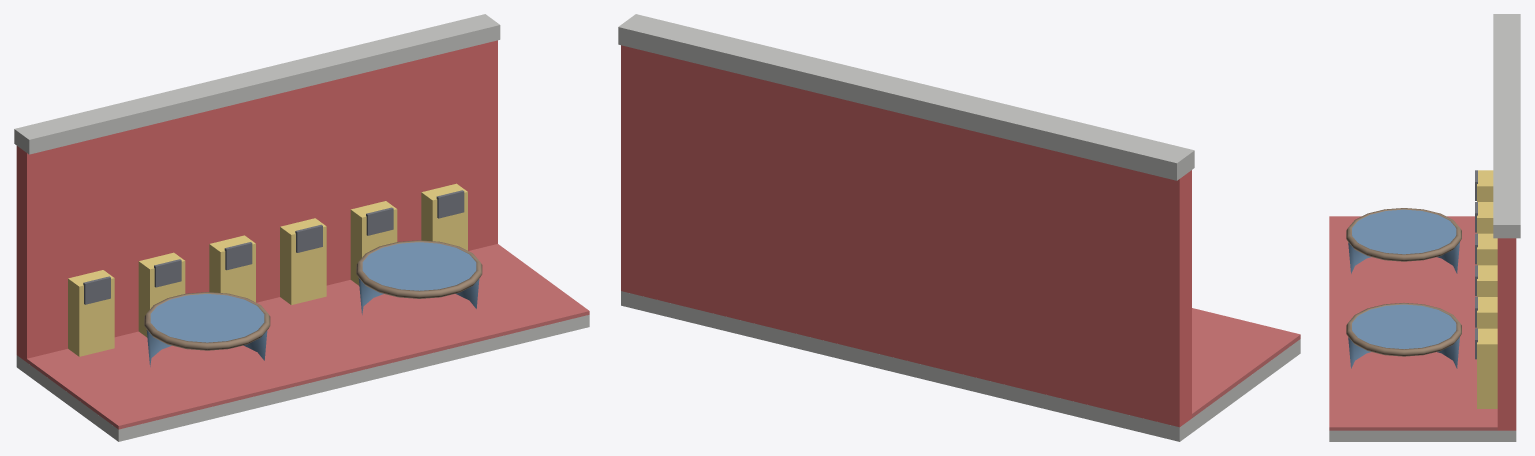
File: martial-arts-dojo-and-fight-stages-casino-floor-edge-s-fef0d563__18082.glb
The picture shows the model from 3 angles, left to right: view 1: azimuth 30°, elevation 25°; view 2: azimuth 150°, elevation 25°; view 3: azimuth 270°, elevation 25°; orthographic projection. The views are drawn at different scales.
Parts seen in each view (by area): view 1: casino-floor-edge-set; view 2: casino-floor-edge-set; view 3: casino-floor-edge-set.
Boxes of the visible parts, x1,y1,x2,y2 form: casino-floor-edge-set: (14,14,589,441); casino-floor-edge-set: (618,14,1300,441); casino-floor-edge-set: (1329,14,1520,441).
Size of the model in its own units: 8 by 3.84 by 3.07.
